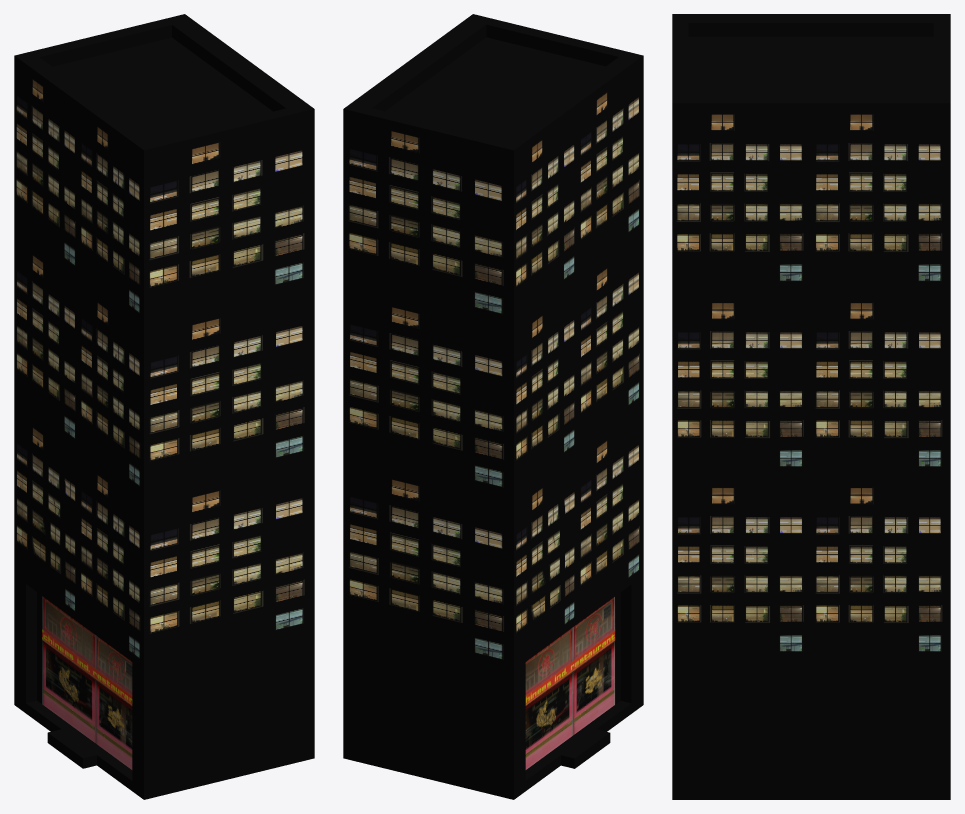
The model's file is building19.FBX.
3 renders of one model, left to right at view 1: azimuth 30°, elevation 25°; view 2: azimuth 150°, elevation 25°; view 3: azimuth 270°, elevation 25°, orthographic. The views are drawn at different scales.
Visible parts, largest first — view 1: Box002; view 2: Box002; view 3: Box002.
Boxes of the visible parts, left/top/right/bottom form: Box002: left=14, top=14, right=314, bottom=799; Box002: left=343, top=14, right=643, bottom=799; Box002: left=672, top=14, right=950, bottom=799.
Bounding box in the file's own units: 46.46 × 156 × 56.59.
